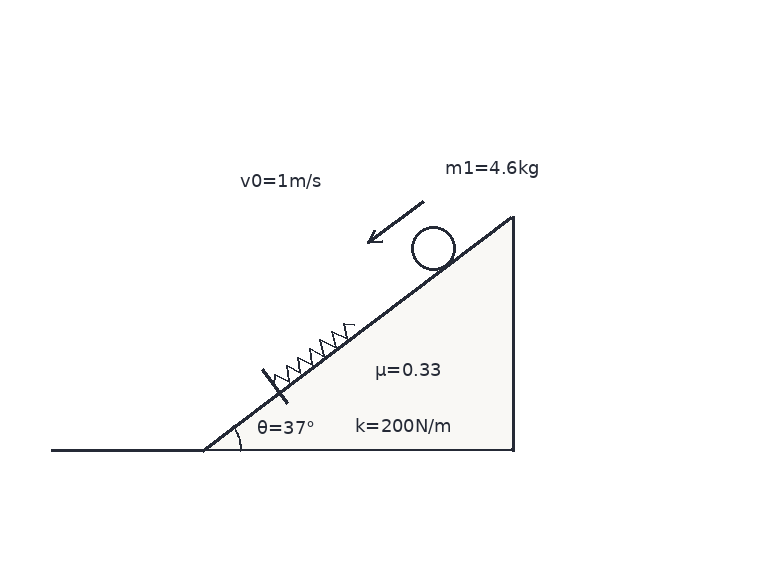ball: (409, 224, 457, 272)
ramp: (199, 214, 514, 452)
spring: (271, 320, 356, 386)
